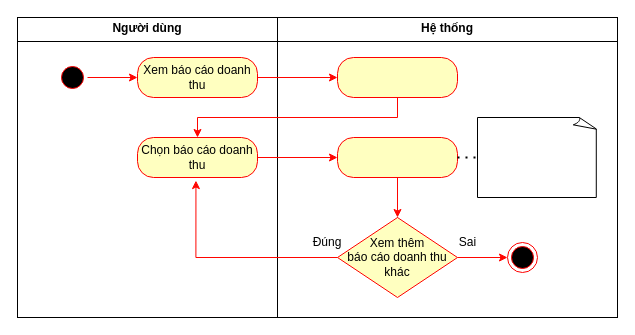
The diagram is 635 pixels wide and 335 high, and some of its shapes have lost their labels. The shapes that lost their labels are listed below. From the top down, each one's centre as x and y in pixels, then its label:
pixel 397 77: Hiển thị danh sách báo cáo doanh thu
pixel 397 157: Hiển thị thông tin báo cáo doanh thu
